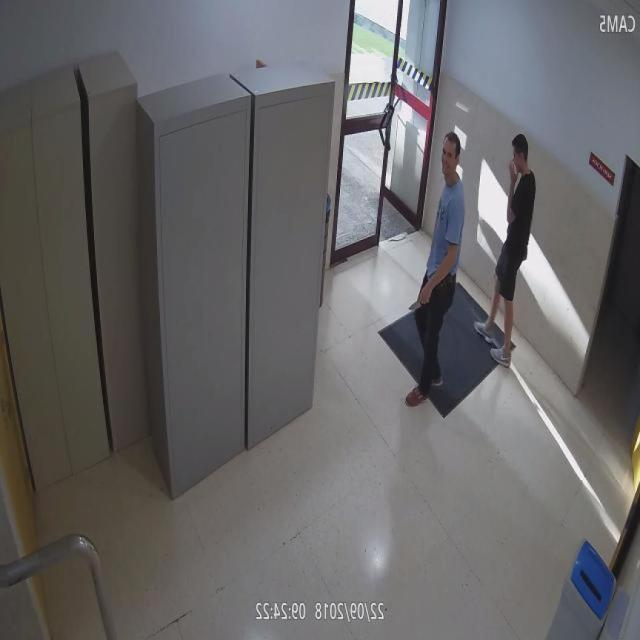pistol: (438, 271, 454, 294)
